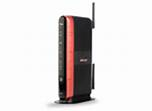Verizon Router: (51, 2, 101, 110)
